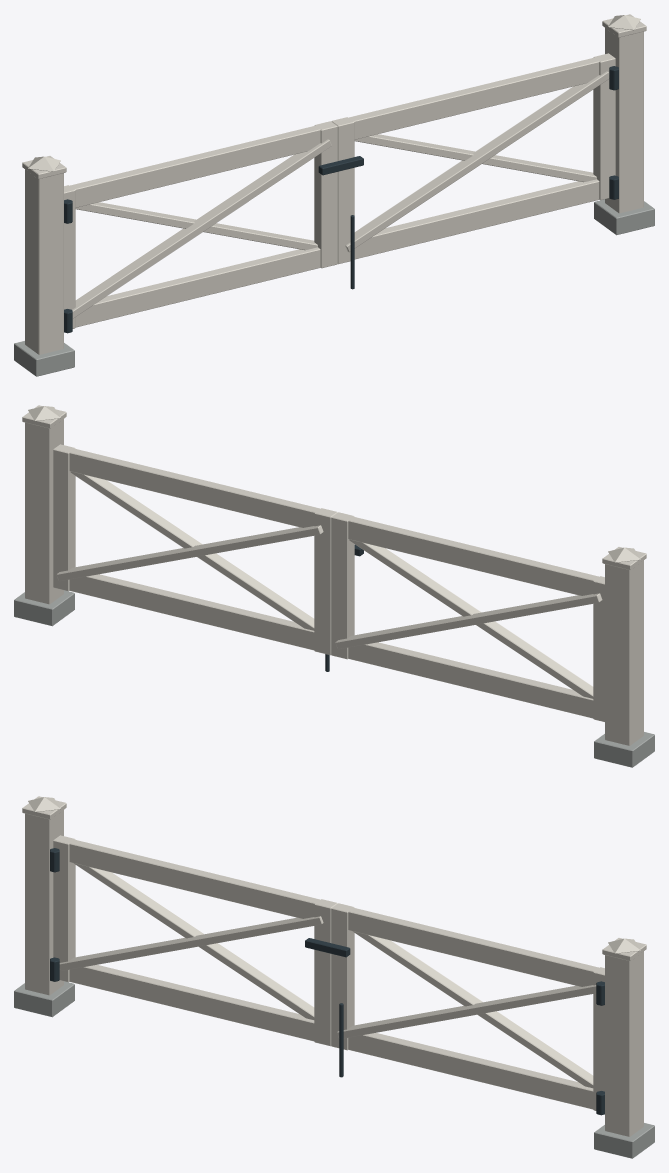
The model's file is b19_double_crossbuck_driveway_gate.glb.
3 views of the same model, one above another, from view 1: azimuth 30°, elevation 25°; view 2: azimuth 150°, elevation 25°; view 3: azimuth 330°, elevation 25° (orthographic).
Visible parts, largest first — view 1: b19_double_crossbuck_driveway_gate; view 2: b19_double_crossbuck_driveway_gate; view 3: b19_double_crossbuck_driveway_gate.
Part boxes in pixels (x1,y1,x2,y2): b19_double_crossbuck_driveway_gate: (14,14,654,376); b19_double_crossbuck_driveway_gate: (14,405,654,767); b19_double_crossbuck_driveway_gate: (14,796,654,1158).
Bounding box in the file's own units: 4.44 × 1.42 × 0.28.
